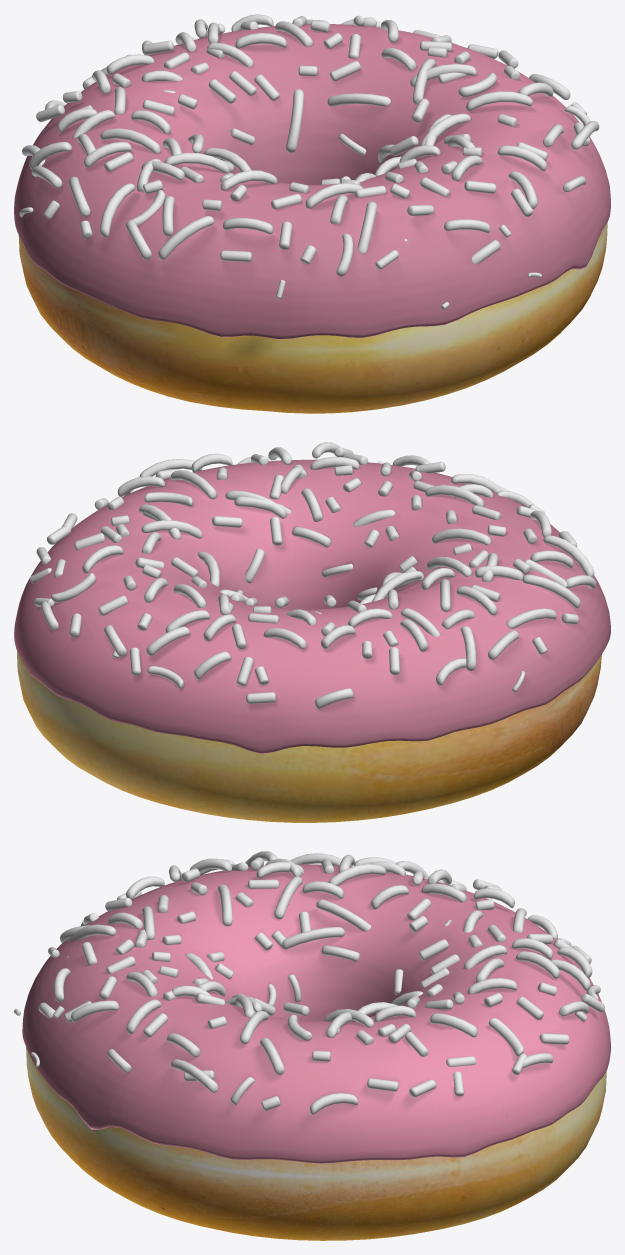
The model's file is strawberry white vermicheli.glb.
The picture shows the model from 3 angles, top to bottom: view 1: azimuth 30°, elevation 25°; view 2: azimuth 150°, elevation 25°; view 3: azimuth 270°, elevation 25°; orthographic projection. The views are drawn at different scales.
Visible parts, largest first — view 1: coffee.001, strawberry, blue.002, Torus; view 2: strawberry, coffee.001, blue.002, Torus; view 3: strawberry, coffee.001, Torus, blue.002.
Boxes of the visible parts, bbox=[...] form: coffee.001: bbox=[14, 24, 610, 338]; strawberry: bbox=[14, 24, 610, 339]; blue.002: bbox=[19, 14, 599, 309]; Torus: bbox=[18, 222, 607, 413]; strawberry: bbox=[14, 460, 606, 753]; coffee.001: bbox=[14, 459, 610, 753]; blue.002: bbox=[30, 442, 596, 709]; Torus: bbox=[17, 651, 601, 822]; strawberry: bbox=[23, 864, 610, 1163]; coffee.001: bbox=[22, 864, 610, 1163]; Torus: bbox=[26, 1047, 606, 1240]; blue.002: bbox=[14, 851, 604, 1114].
Bounding box in the file's own units: 0.1989 × 0.0773 × 0.2.
Materials: 4 (2 with a texture image).
